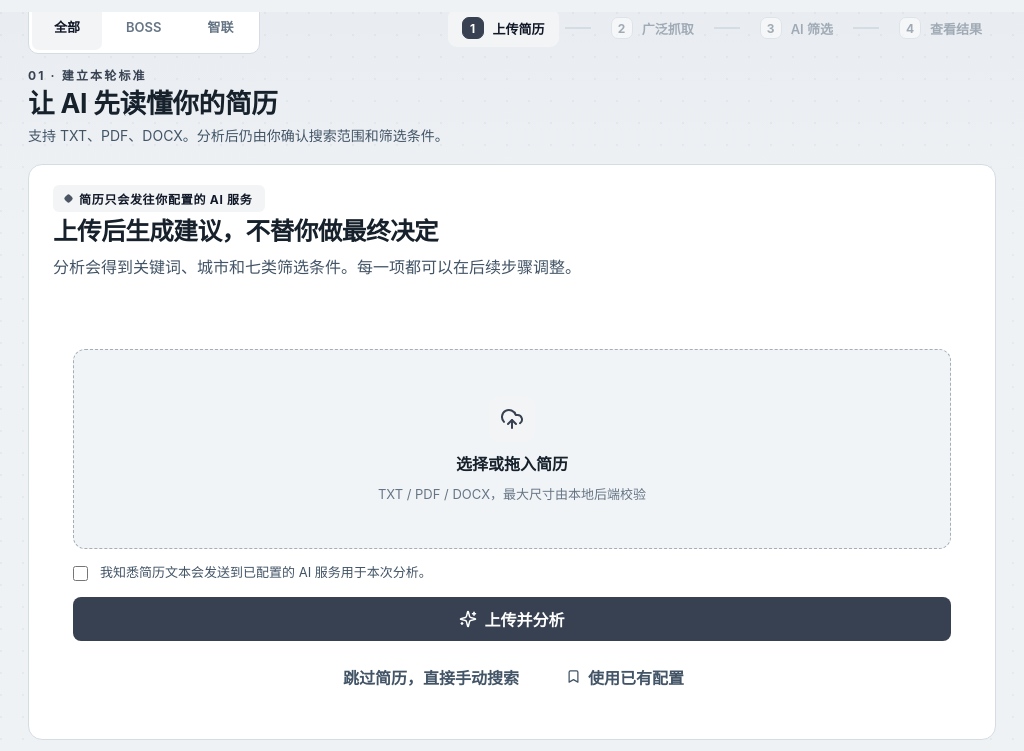
Scenario: DiscoveryView › 024 警示区：大任务任何档位显示，极限档追加极限警告（可同时）
(page scrolled)
Step 1. Click the button "跳过简历，直接手动搜索" → (431,676), box left=327, top=654, right=535, bottom=698
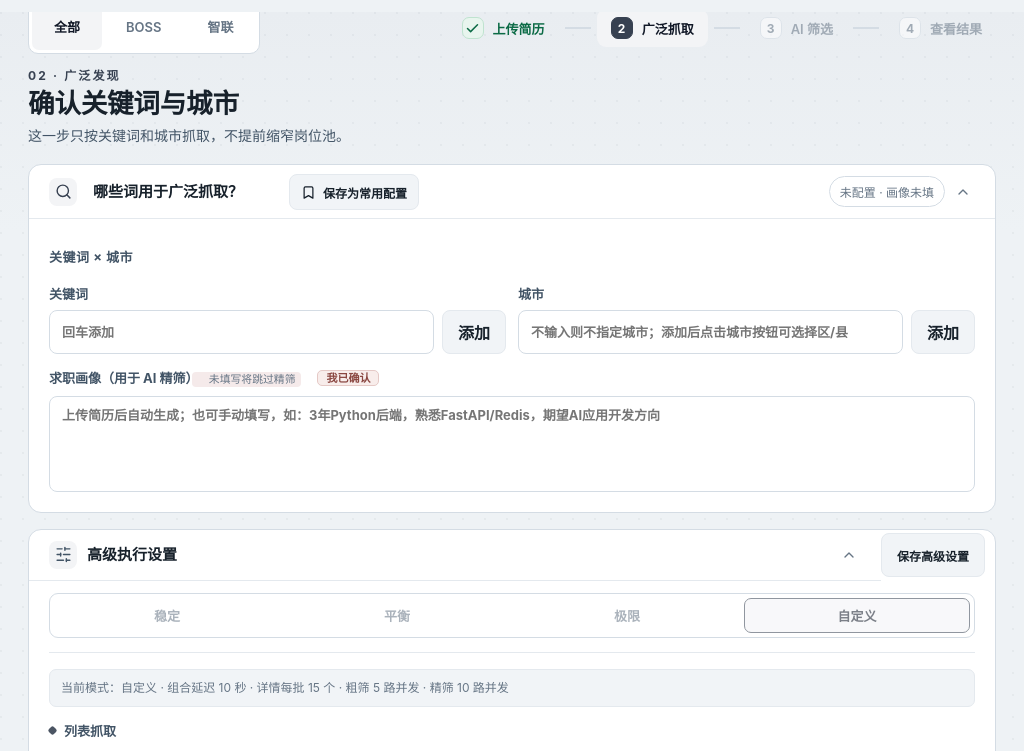
Step 2. Type "AI应用开发" into the field with test id "custom-keyword" → (242,332), box left=49, top=310, right=434, bottom=354
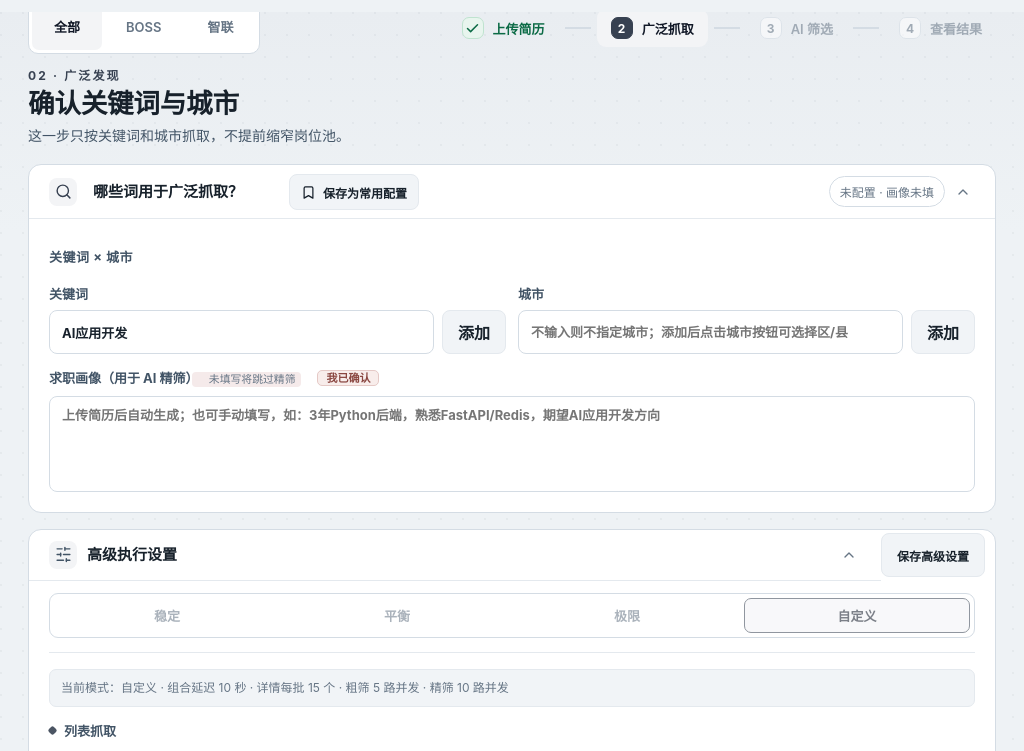
Step 3. Click the button with test id "add-keyword" → (474,332), box left=442, top=310, right=506, bottom=354
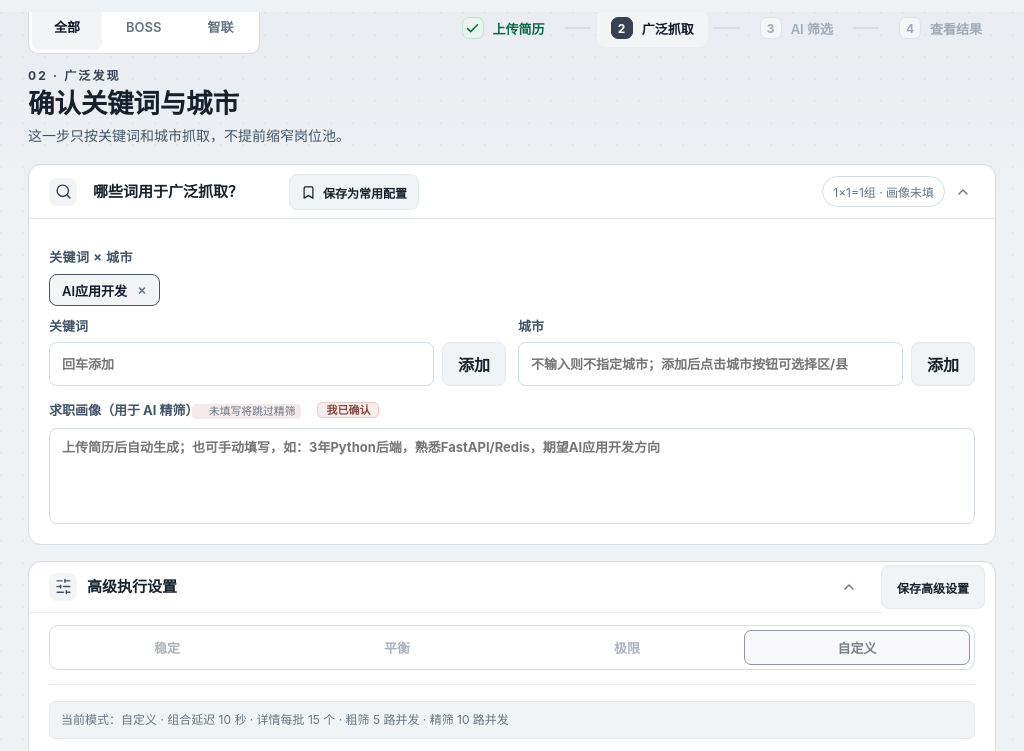
Step 4. Type "东莞市" into the field with test id "custom-city" → (710,364), box left=518, top=342, right=903, bottom=386
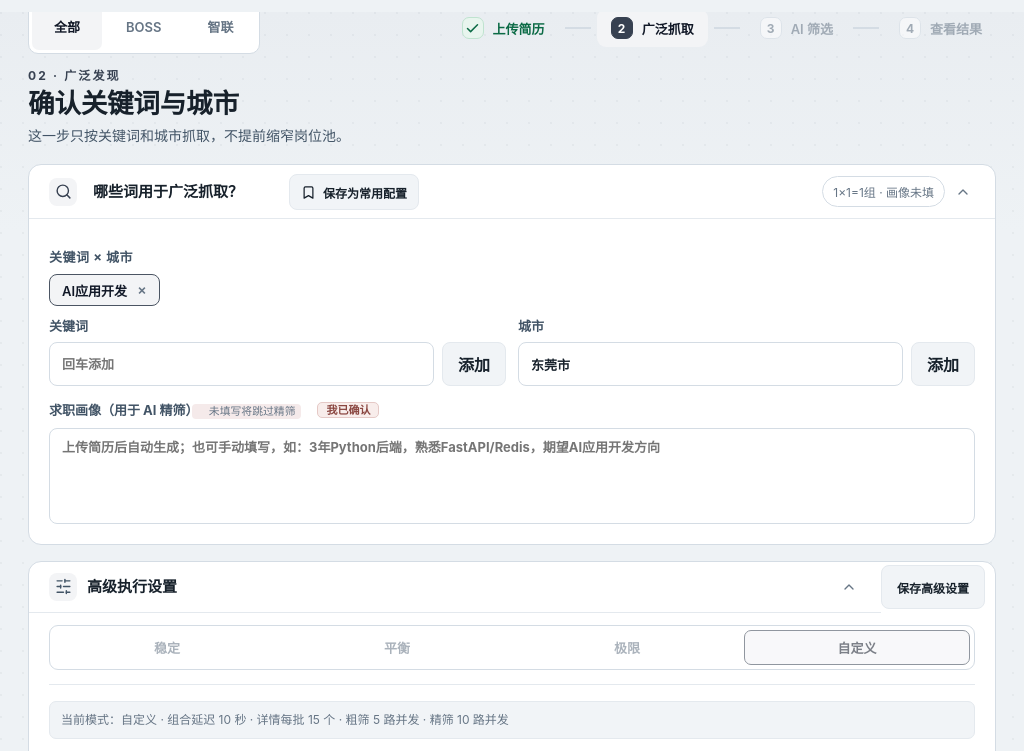
Step 5. Click the button with test id "add-city" → (943,364), box left=911, top=342, right=975, bottom=386
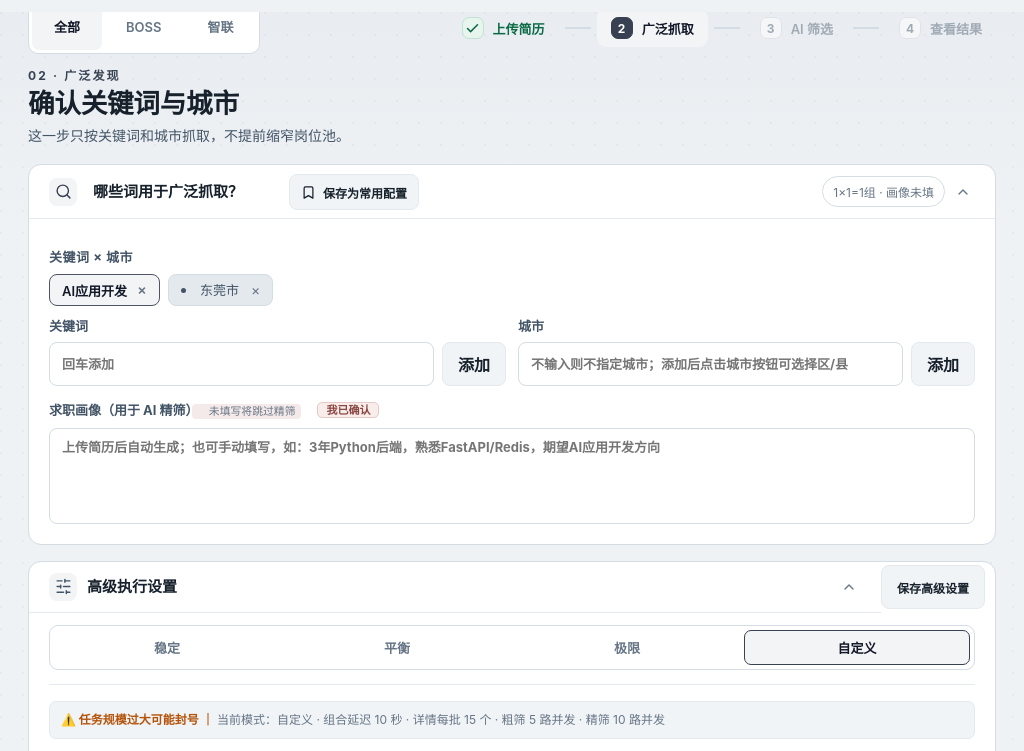
expect the element with test id "adv-mode-summary" does not show "有概率限流": met
expect the element with test id "adv-mode-summary" shows "任务规模过大可能封号": met, box left=61, top=712, right=214, bottom=726
Note: 切极限档：两条警告同时显示
Step 6. Click the radio button labelled "极限" → (627,647), box left=514, top=630, right=740, bottom=664
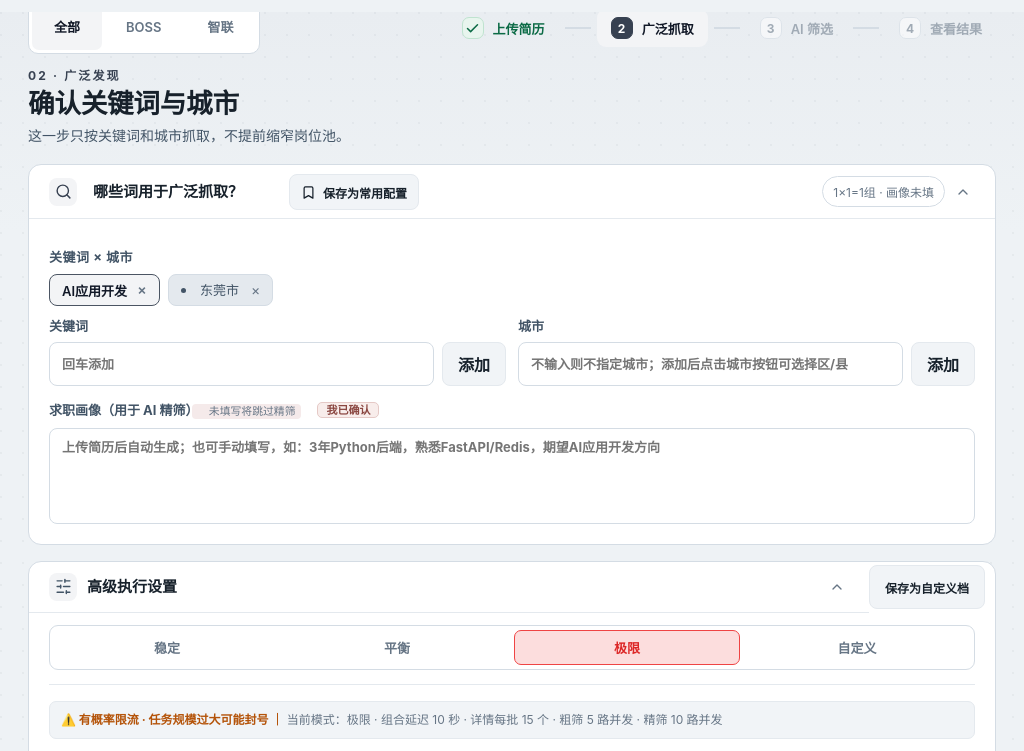
expect the element with test id "adv-mode-summary" shows "任务规模过大可能封号": met, box left=61, top=712, right=283, bottom=726
expect the element with test id "adv-mode-summary" shows "有概率限流": met, box left=61, top=712, right=283, bottom=726
